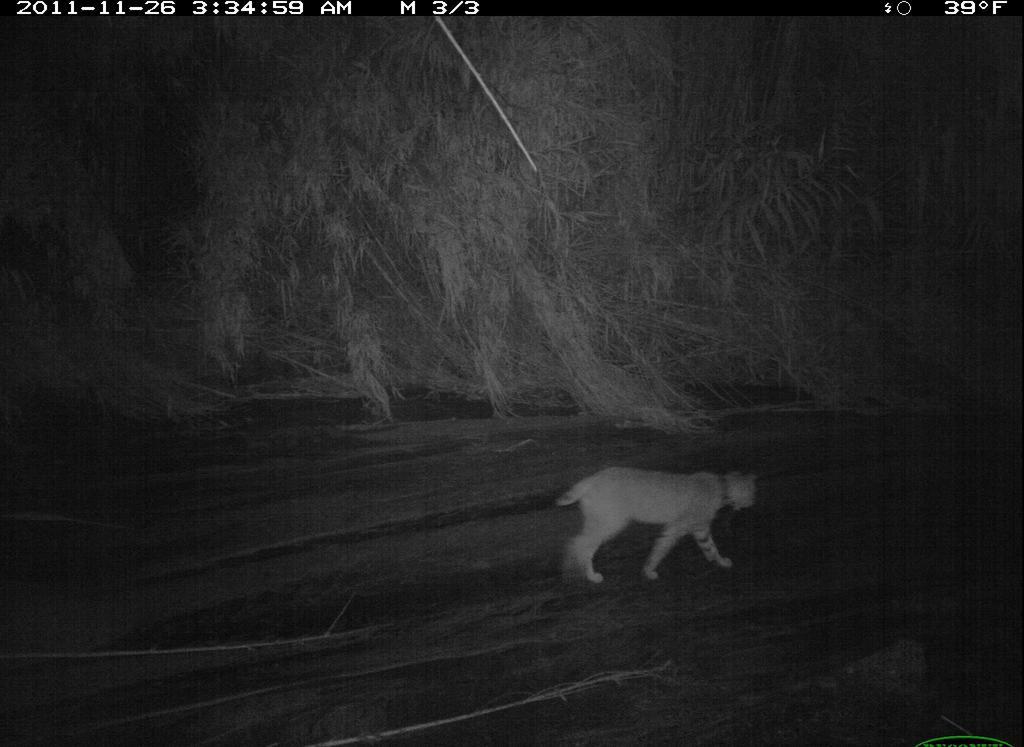bobcat: (555, 463, 762, 587)
